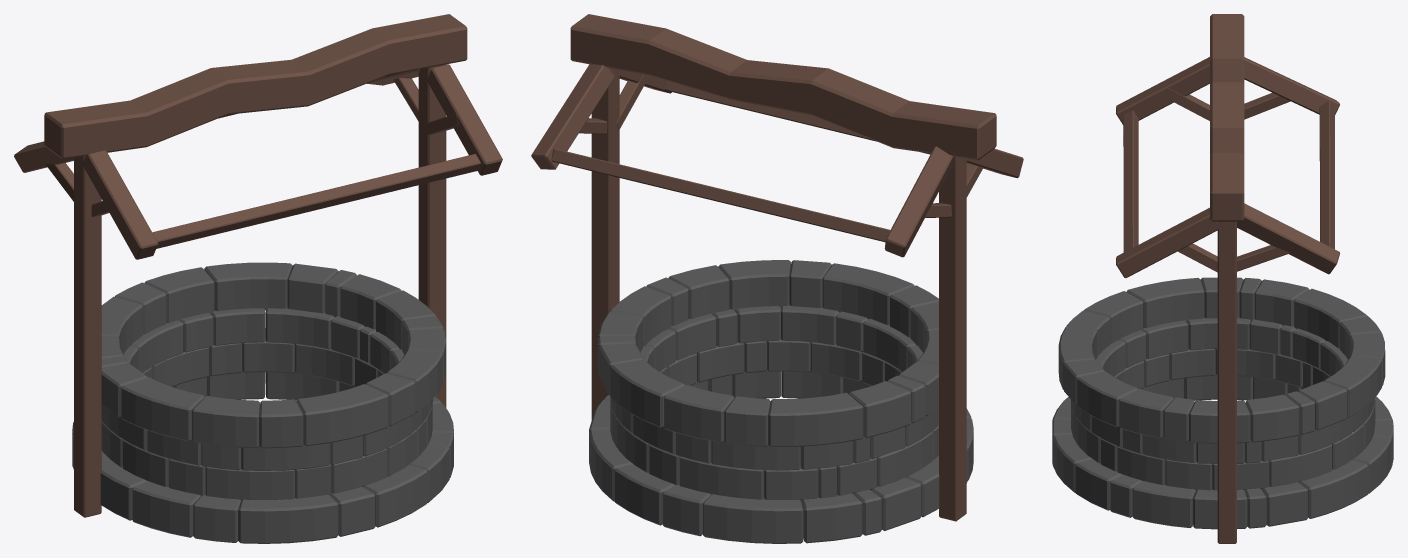
File: kuyu.fbx
3 renders of one model, left to right at view 1: azimuth 30°, elevation 25°; view 2: azimuth 150°, elevation 25°; view 3: azimuth 270°, elevation 25°, orthographic. The views are drawn at different scales.
Parts seen in each view (by area): view 1: Cube.003, Cube, Cube.001, Cube.002; view 2: Cube.003, Cube, Cube.001, Cube.002; view 3: Cube.003, Cube, Cube.001, Cube.002.
Boxes of the visible parts, <box> form: Cube.003: <box>72,262,453,543</box>; Cube: <box>14,64,502,517</box>; Cube.001: <box>44,14,467,158</box>; Cube.002: <box>152,113,480,248</box>; Cube.003: <box>589,260,973,543</box>; Cube: <box>531,64,1023,521</box>; Cube.001: <box>570,14,996,160</box>; Cube.002: <box>551,81,930,241</box>; Cube.003: <box>1052,277,1393,529</box>; Cube: <box>1116,57,1339,543</box>; Cube.001: <box>1210,14,1244,221</box>; Cube.002: <box>1123,101,1334,252</box>.
Bounding box in the file's own units: 2408 × 2303 × 1954.
